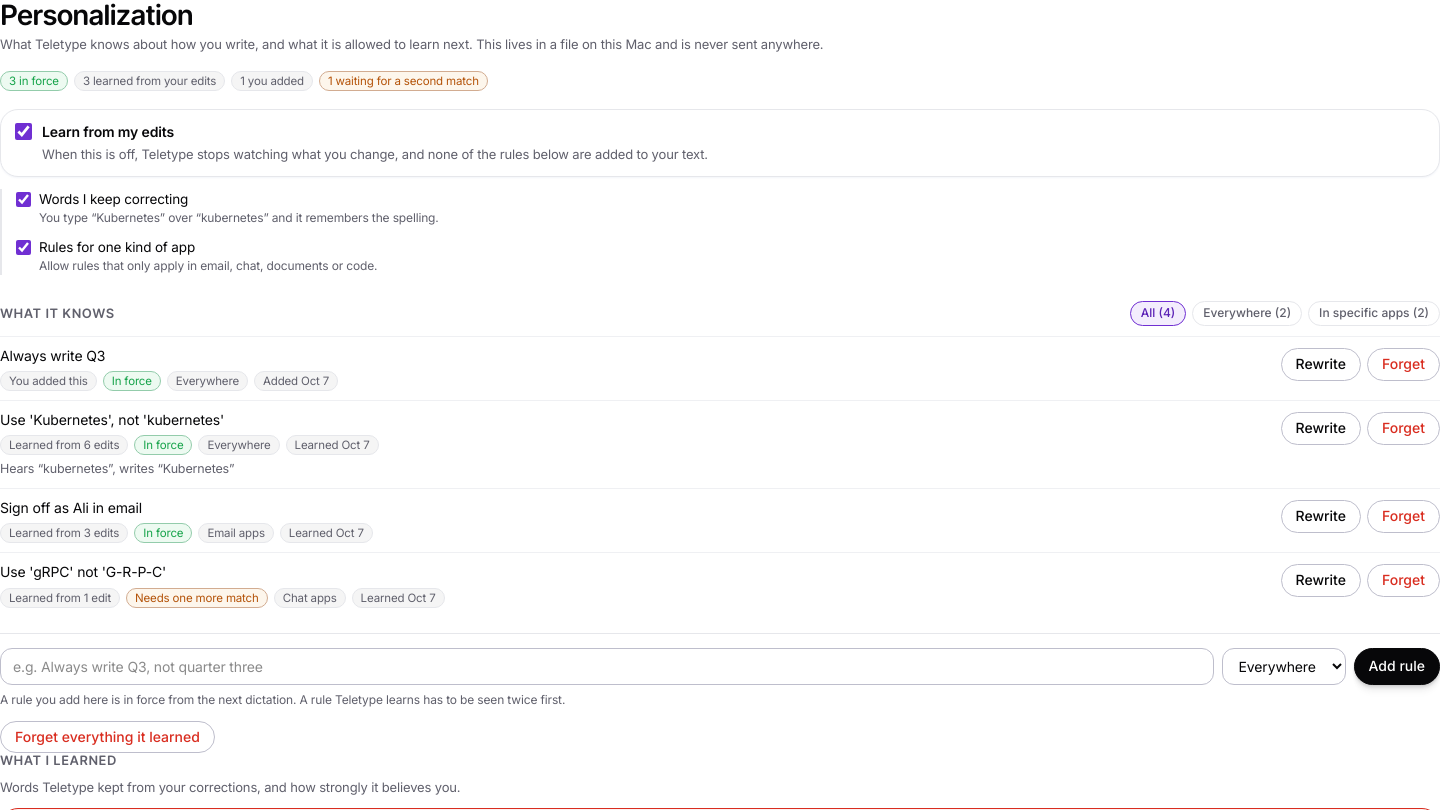
Personalization states where each rule came from › filters by scope and groups app-scoped rules under the app they belong to
The image size is (1440, 810).
expect the text "Always write Q3" is shown: met, box [0,347,105,364]
Click the button "Everywhere (2)".
click(1247, 314)  # box [1192,301,1302,326]
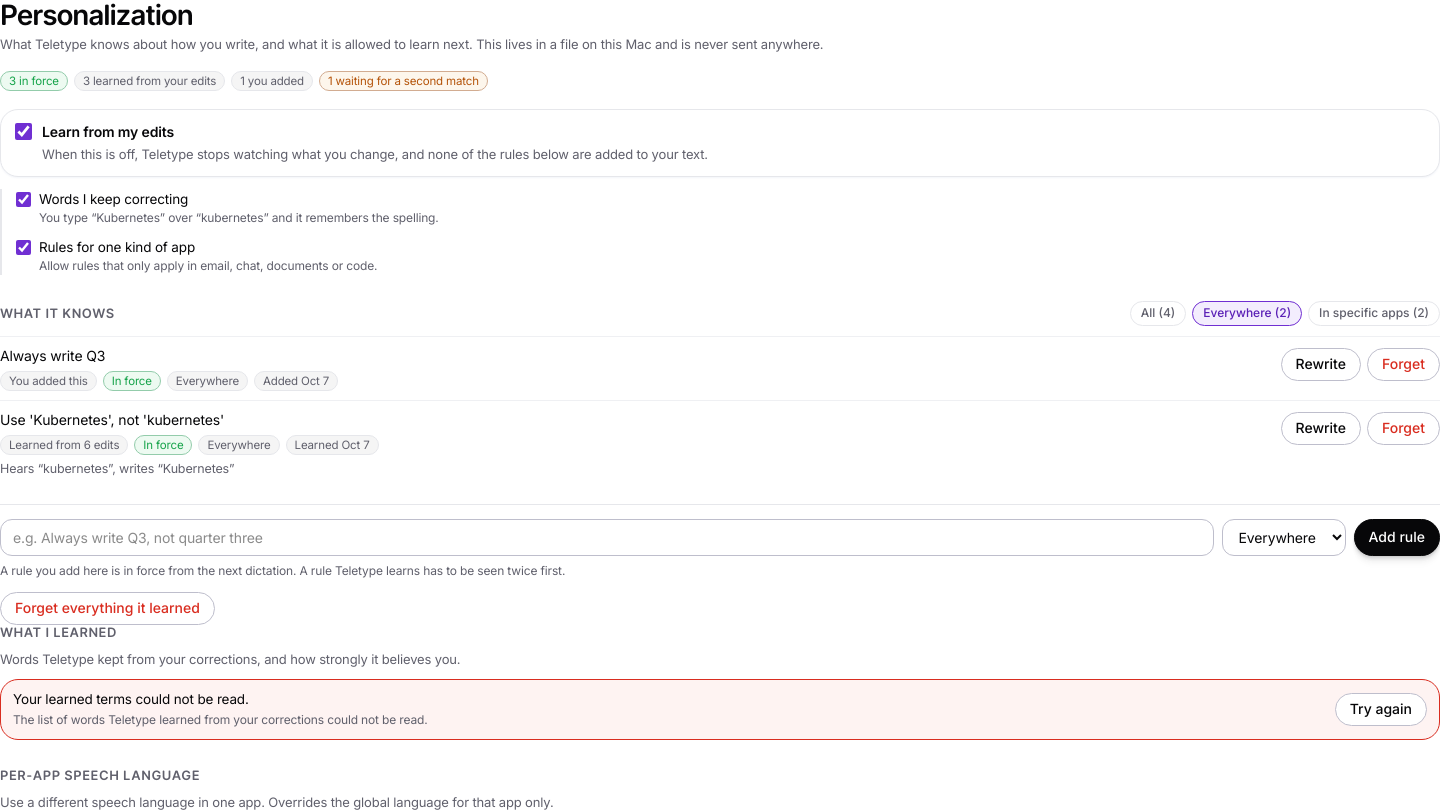
expect the text "Always write Q3" is shown: met, box [0,347,105,364]
expect the text "Sign off as Ali in email" is gone: met
Click the button "In specific apps (2)".
click(1374, 314)  # box [1308,301,1439,326]
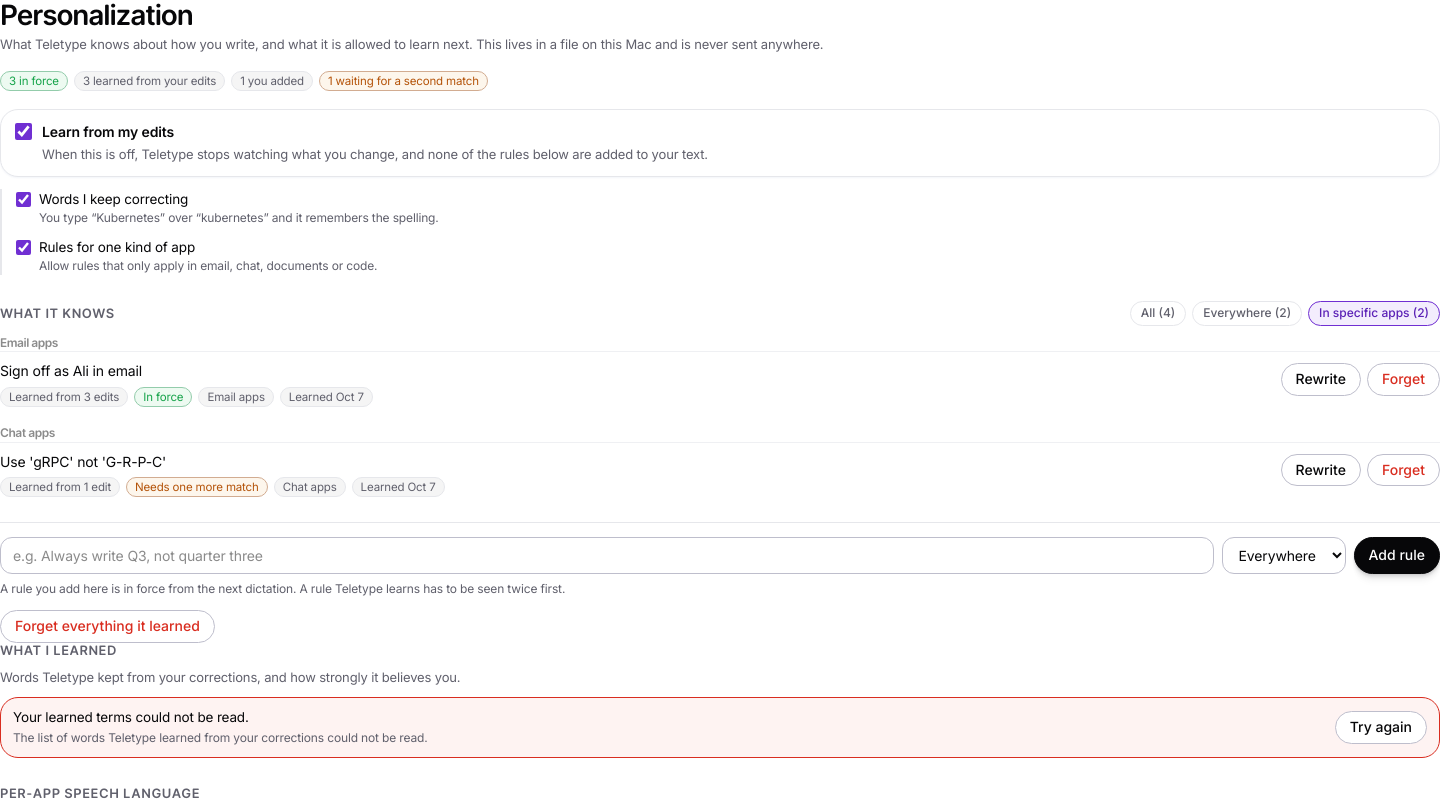
expect the heading "Email apps" is shown: met, box [0,335,58,350]
expect the heading "Chat apps" is shown: met, box [0,425,55,440]
expect the text "Sign off as Ali in email" is shown: met, box [0,362,142,379]
